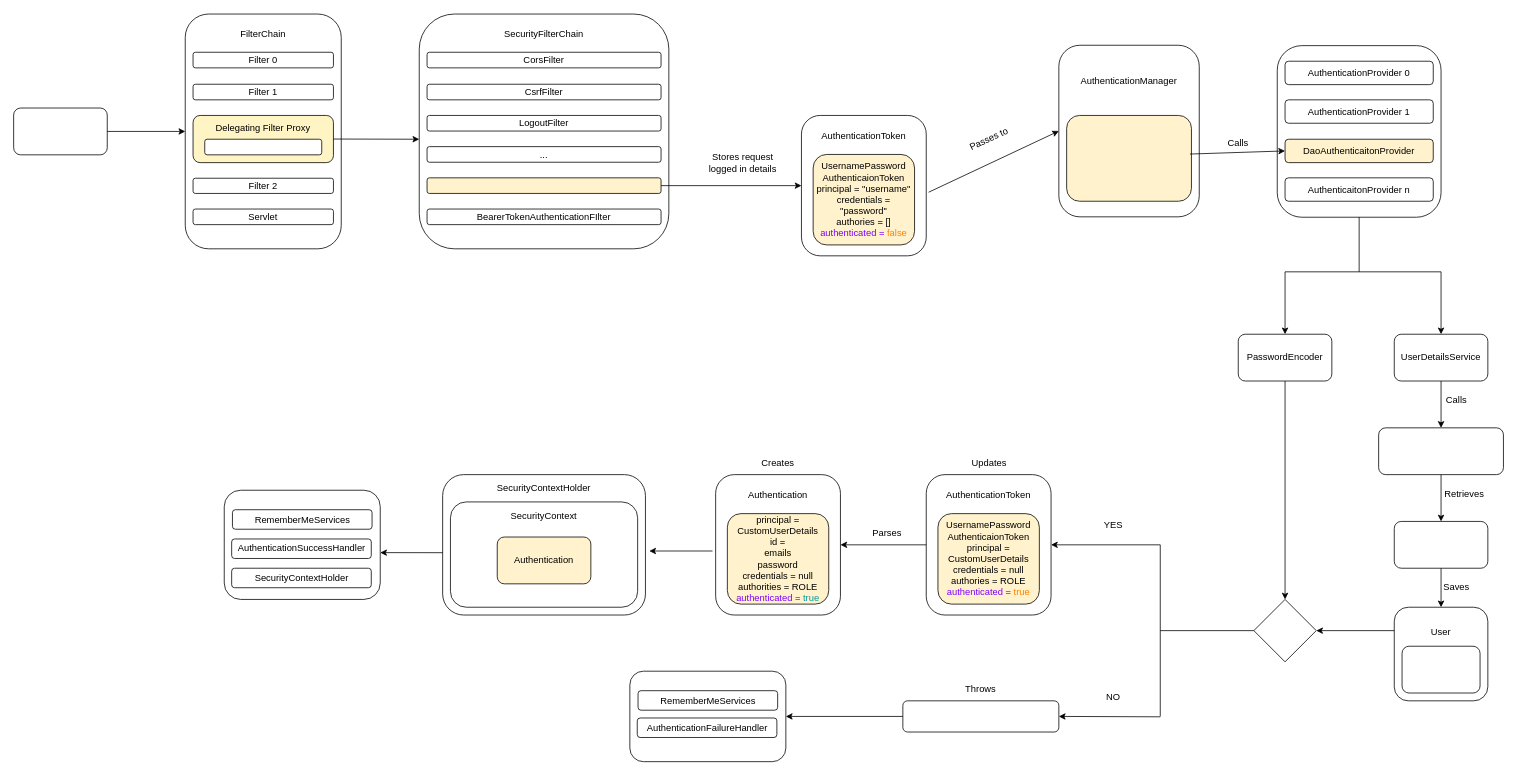
The diagram is 1517 pixels wide and 775 high, and some of its shapes have lost their labels. The centre of each missing label's shape, as x and y in pixels:
"BadCredentialException" belongs at pixel 980 716.
"Database" belongs at pixel 1440 544.
"FilterChainProxy" belongs at pixel 263 146.
"HTTP Request" belongs at pixel 60 131.
"loadUserByUsername()" belongs at pixel 1440 451.
"mathces?" belongs at pixel 1284 630.
"ProviderManager" belongs at pixel 1128 158.
"UserDetails" belongs at pixel 1440 669.
"UsernamePasswordAuthenticationFilter" belongs at pixel 543 185.
